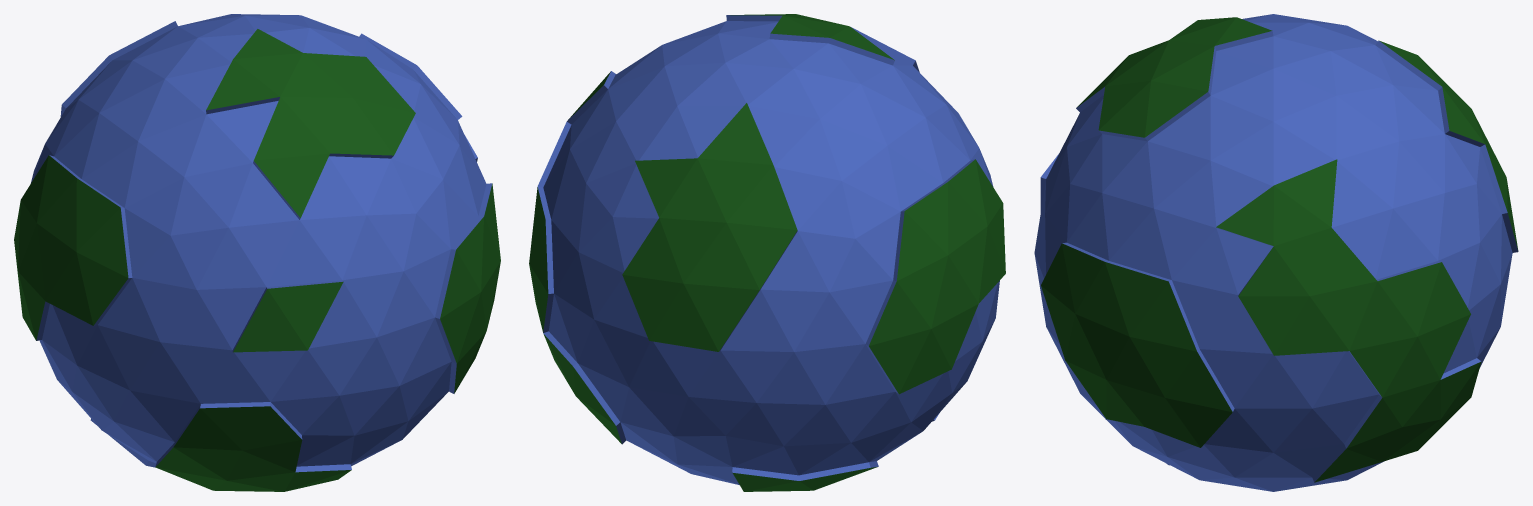
The model's file is Dunya.fbx.
The picture shows the model from 3 angles, left to right: view 1: azimuth 30°, elevation 25°; view 2: azimuth 150°, elevation 25°; view 3: azimuth 270°, elevation 25°; orthographic projection.
Parts seen in each view (by area): view 1: Icosphere; view 2: Icosphere; view 3: Icosphere.
Part boxes in pixels (left/top/right/bottom): Icosphere: left=14, top=14, right=500, bottom=491; Icosphere: left=529, top=14, right=1005, bottom=491; Icosphere: left=1034, top=14, right=1518, bottom=491.
Size of the model in its own units: 202 by 205 by 202.
1 material, 1 textured.
